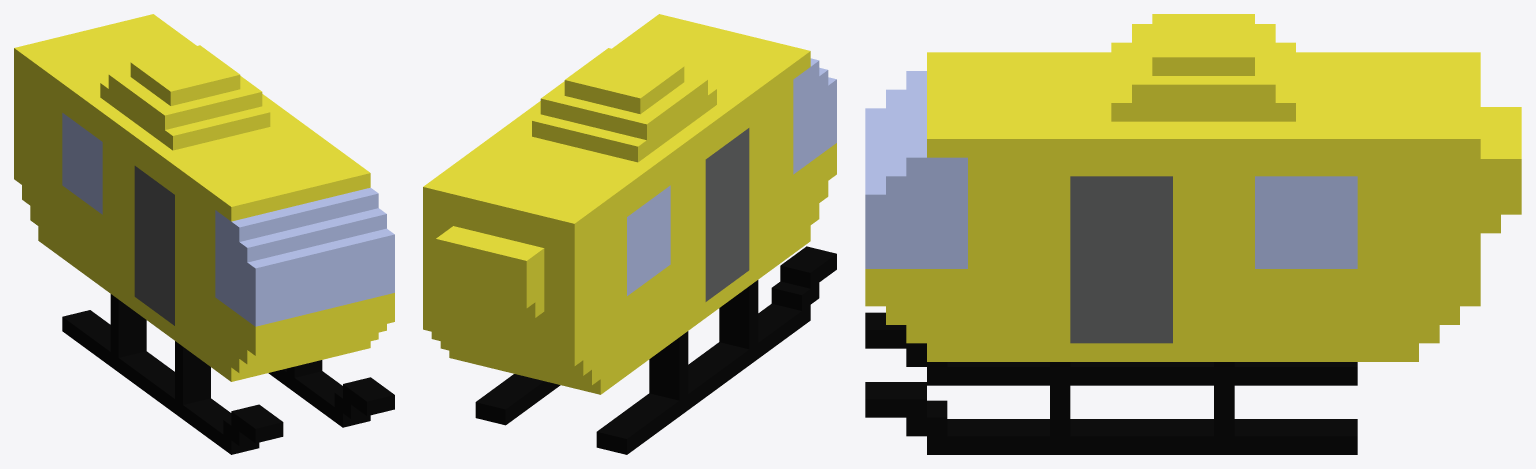
The model's file is heli.gltf.
3 renders of one model, left to right at view 1: azimuth 30°, elevation 25°; view 2: azimuth 150°, elevation 25°; view 3: azimuth 270°, elevation 25°, orthographic. The views are drawn at different scales.
Parts seen in each view (by area): view 1: Layer.1; view 2: Layer.1; view 3: Layer.1.
Part boxes in pixels (box(x1,y1,x2,y2)): Layer.1: box(14, 14, 394, 454); Layer.1: box(423, 14, 836, 454); Layer.1: box(865, 14, 1521, 454).
Bounding box in the file's own units: 10 × 20 × 32.
Materials: 1 (1 with a texture image).
